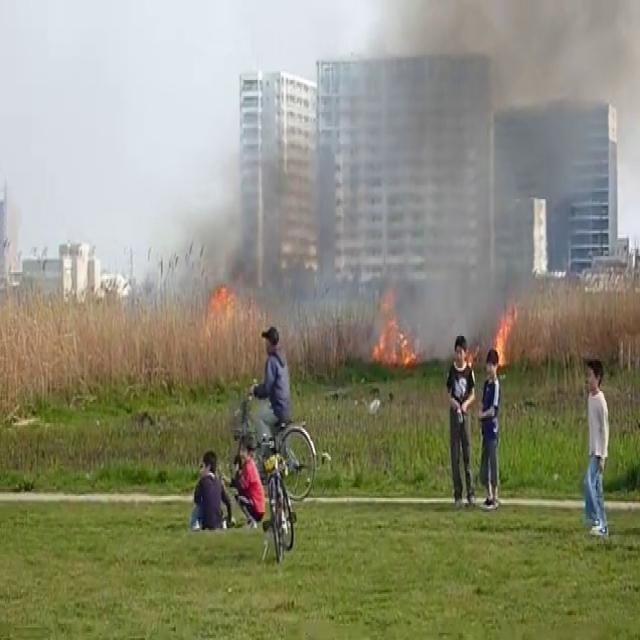Fire: (368, 282, 419, 376), (200, 270, 253, 340), (489, 294, 520, 374)
Smoke: (277, 0, 640, 327)
